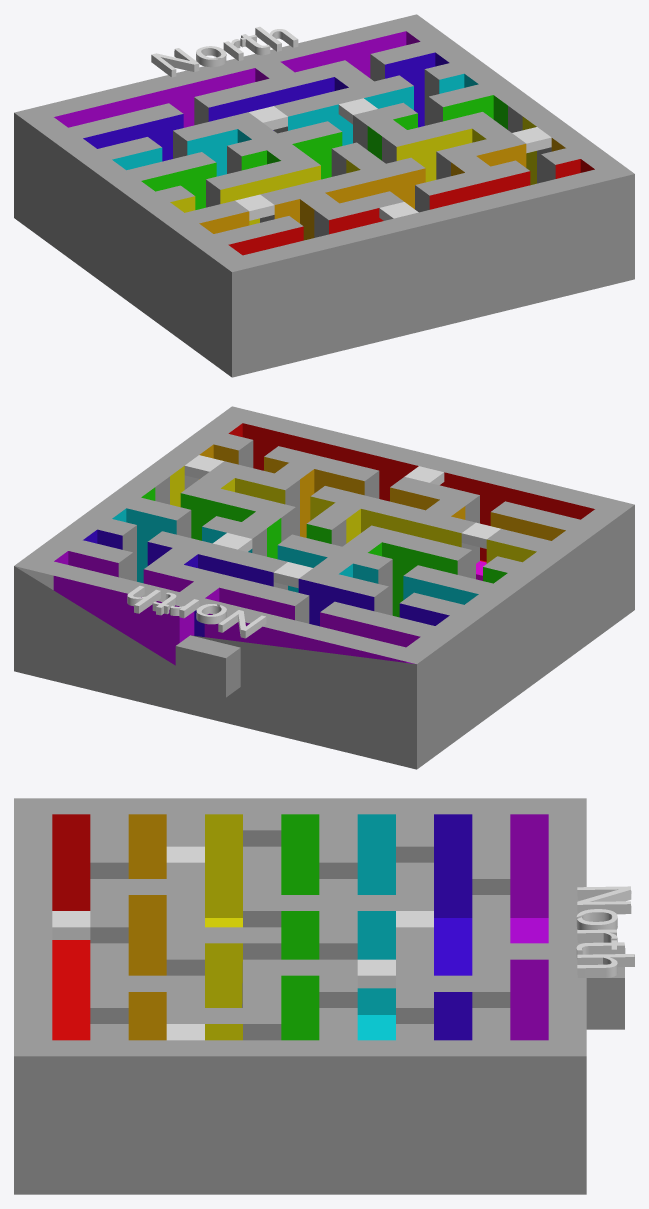
File: maze_color_export.fbx
3 views of the same model, one above another, from view 1: azimuth 30°, elevation 25°; view 2: azimuth 150°, elevation 25°; view 3: azimuth 270°, elevation 25° (orthographic). The views are drawn at different scales.
Parts seen in each view (by area): view 1: maze_v2:Mesh, typeMesh1; view 2: maze_v2:Mesh, typeMesh1; view 3: maze_v2:Mesh, typeMesh1.
Part boxes in pixels (<box>): maze_v2:Mesh: <box>14,14,634,377</box>; typeMesh1: <box>151,26,298,77</box>; maze_v2:Mesh: <box>14,406,634,769</box>; typeMesh1: <box>127,586,266,638</box>; maze_v2:Mesh: <box>14,798,624,1194</box>; typeMesh1: <box>576,886,634,977</box>.
Size of the model in its own units: 16 by 4.31 by 16.26.
